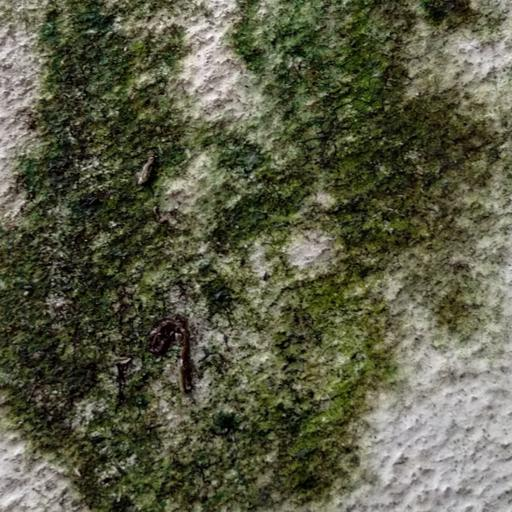algae: (19, 0, 489, 512)
